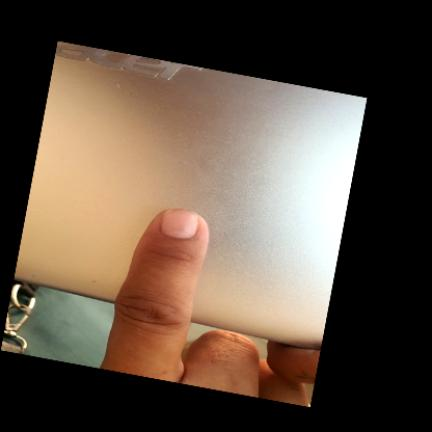Nail: (163, 210, 198, 237)
